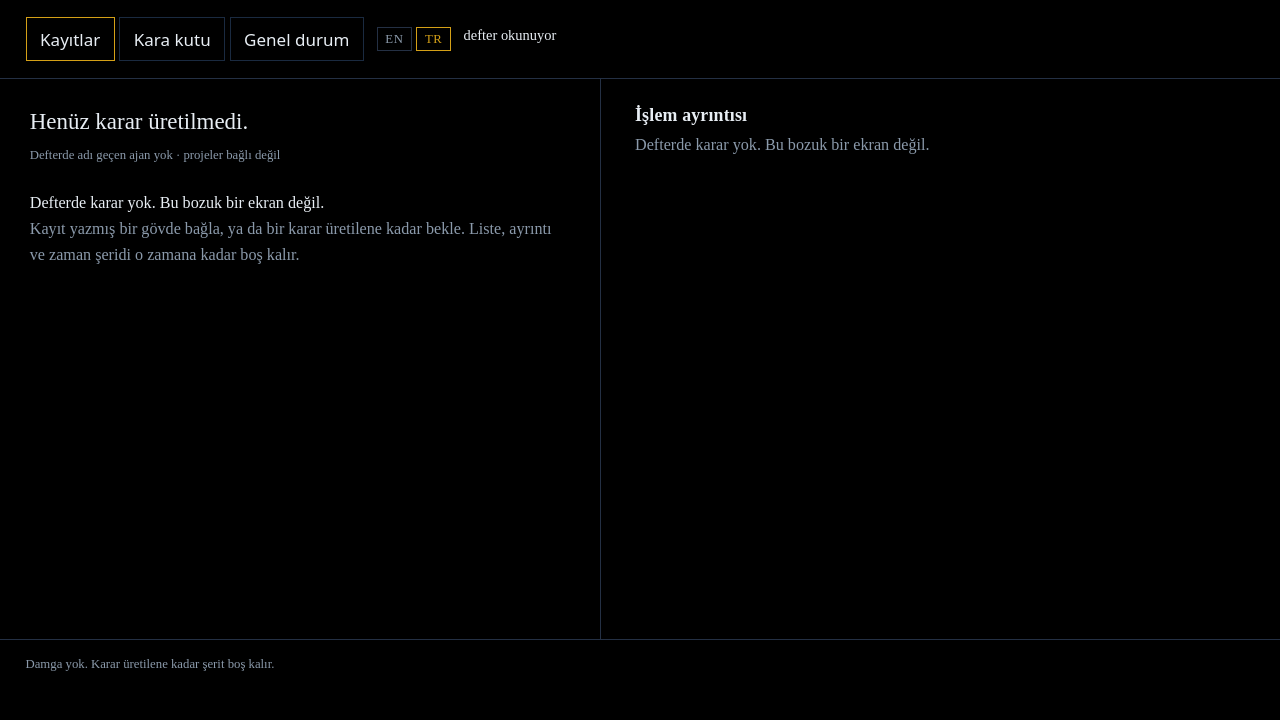
Scenario: approving from the screen › sends the ref and the hash the screen was showing
Click the tab "Genel durum": (297, 39) [230,17,364,61]
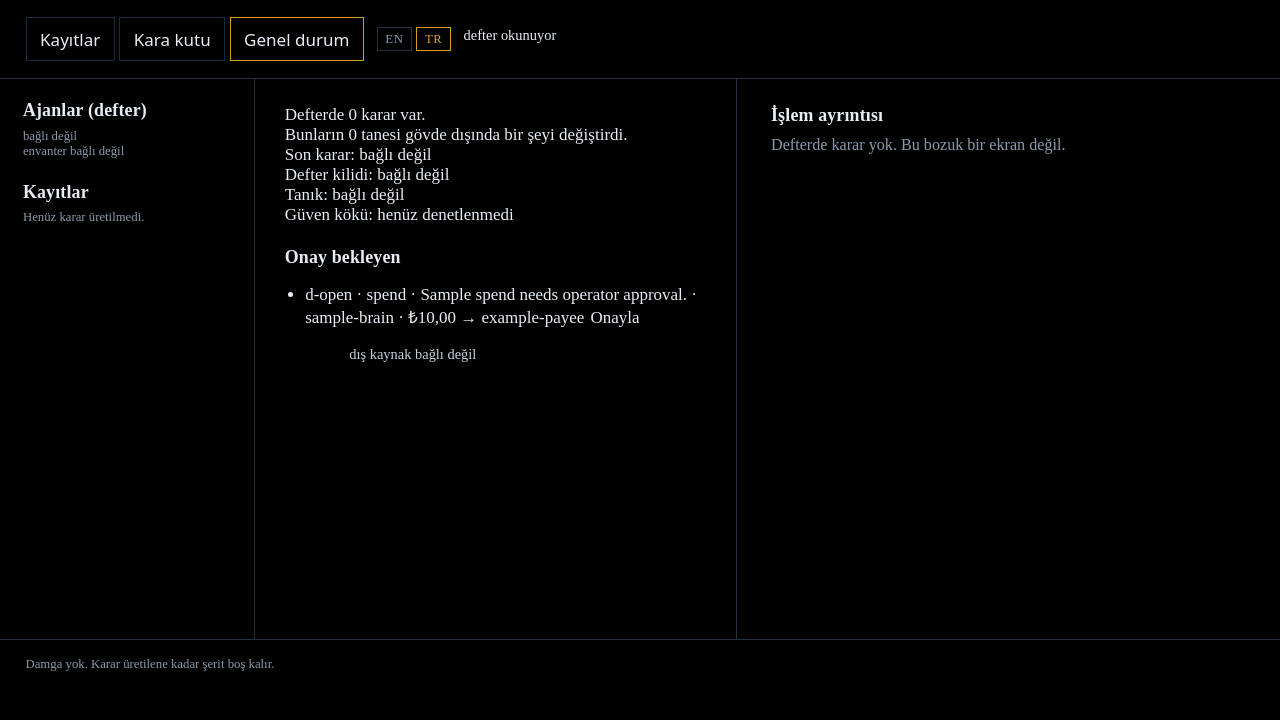
Click the button "Onayla": (615, 318) [584,307,646,329]
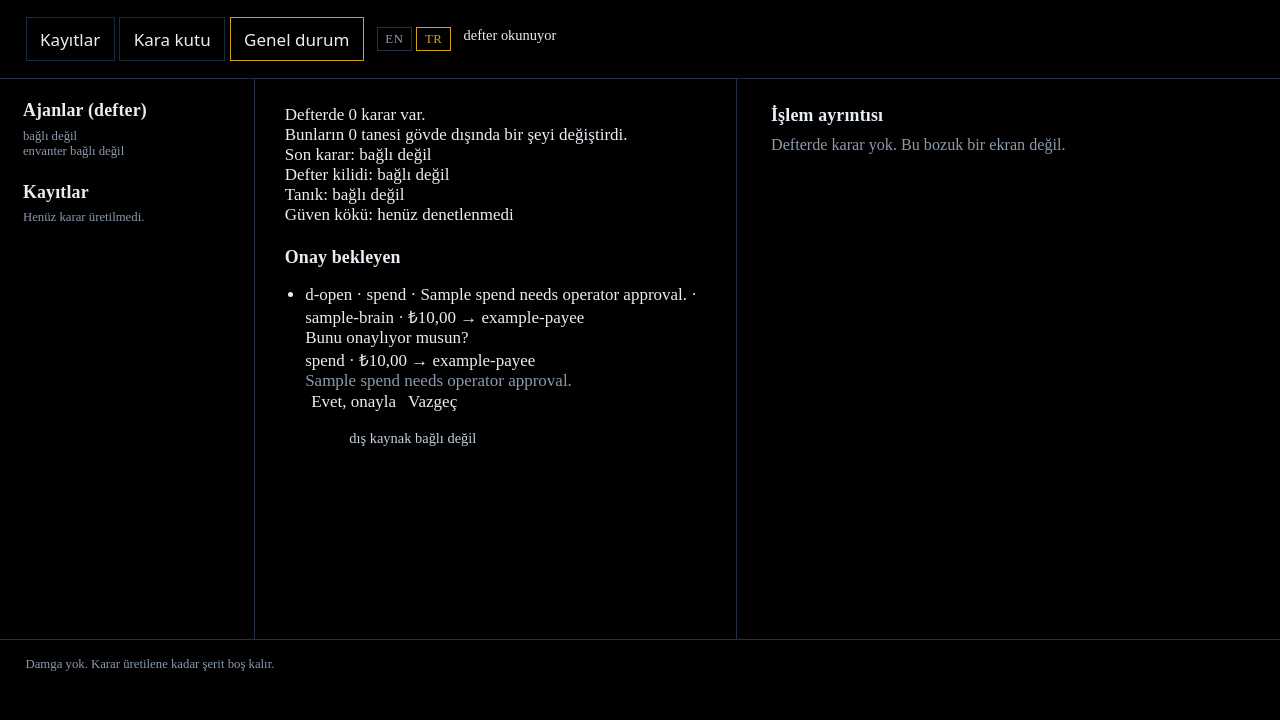
Click the button "Evet, onayla": (354, 402) [305,391,402,413]
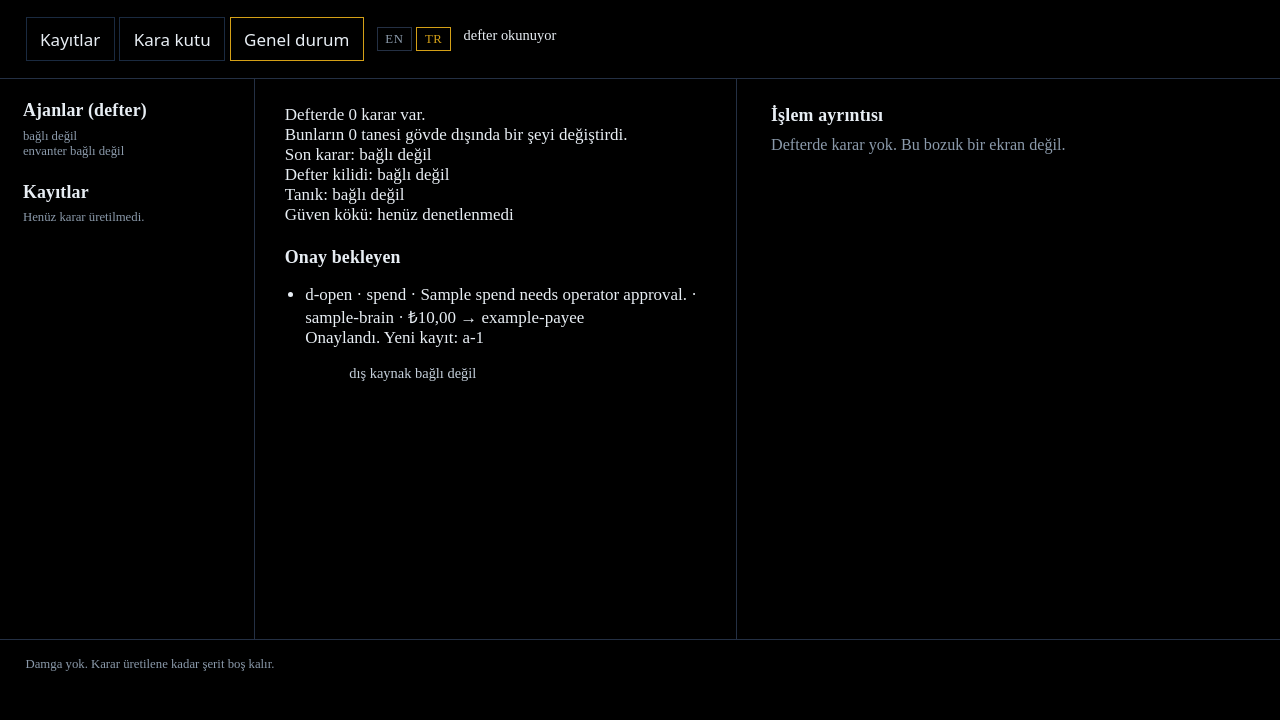
Now the text with test id "approve-outcome" shows "a-1", box [305,328,484,347]
